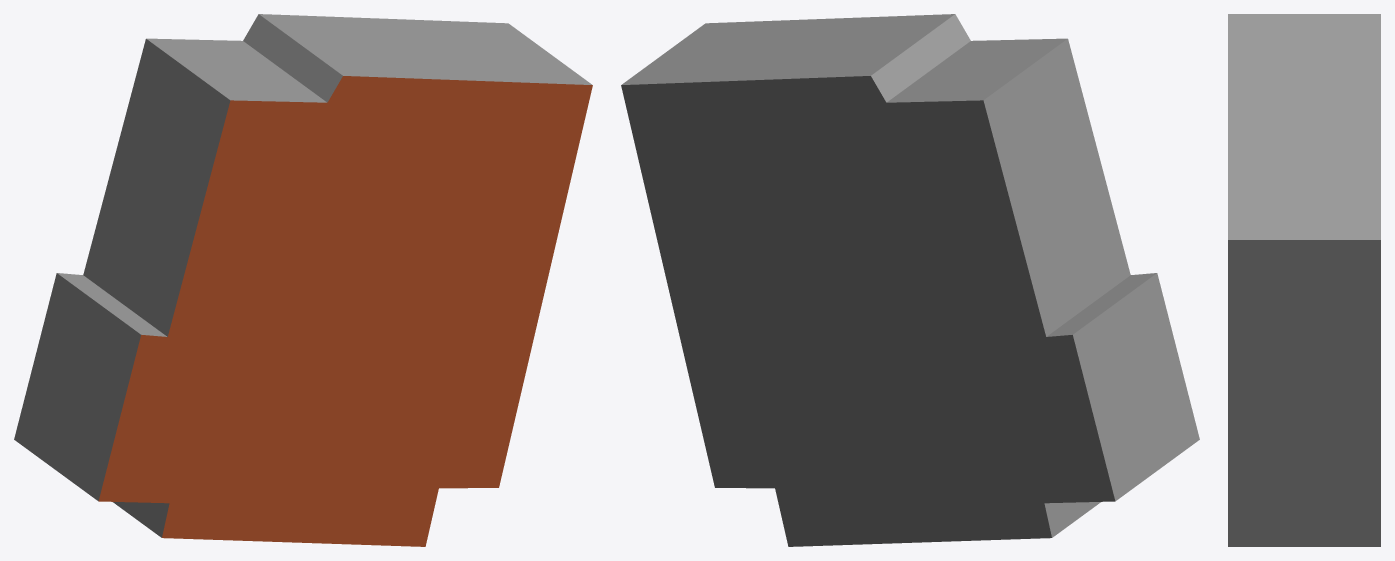
The model's file is construction_6457_assumed_A_Casa_h6m.obj.
3 views of the same model, side by side, from view 1: azimuth 30°, elevation 25°; view 2: azimuth 150°, elevation 25°; view 3: azimuth 270°, elevation 25° (orthographic). The views are drawn at different scales.
Parts seen in each view (by area): view 1: construction_6457_assumed_A_Casa; view 2: construction_6457_assumed_A_Casa; view 3: construction_6457_assumed_A_Casa.
Boxes of the visible parts, x1,y1,x2,y2 form: construction_6457_assumed_A_Casa: (14,14,592,546); construction_6457_assumed_A_Casa: (621,14,1199,546); construction_6457_assumed_A_Casa: (1228,14,1380,546).
Size of the model in its own units: 20.26 by 19.35 by 6.
